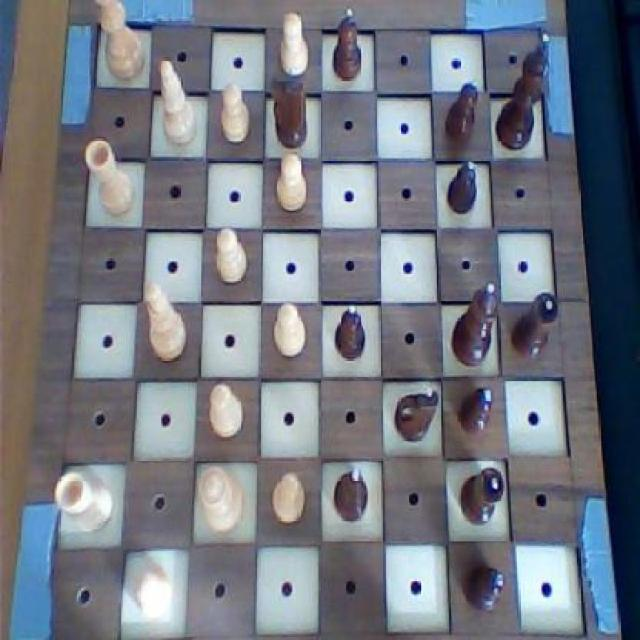bishop: (329, 462, 374, 522)
black-bishop: (494, 32, 557, 156)
black-king: (264, 68, 316, 152), (392, 380, 441, 448)
black-knight: (460, 554, 509, 613), (442, 75, 480, 151), (328, 5, 364, 84), (454, 380, 497, 441), (442, 157, 482, 218), (332, 298, 368, 362)
black-pawn: (448, 282, 500, 370)
black-queen: (506, 288, 561, 364), (454, 465, 506, 530)
black-rook: (155, 56, 198, 156), (142, 277, 189, 364)
white-bishop: (91, 0, 148, 88)
white-knight: (131, 562, 177, 624), (274, 6, 311, 79), (269, 151, 310, 215), (269, 297, 310, 361), (204, 378, 246, 440), (211, 226, 249, 288), (218, 80, 252, 147), (270, 468, 308, 527)
white-pawn: (194, 462, 244, 542)
white-queen: (80, 134, 137, 221), (51, 468, 115, 536)
